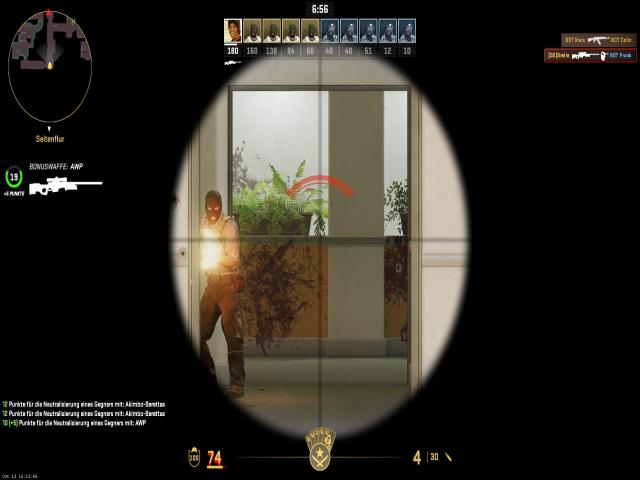T: (198, 184, 244, 378)
T-Head: (202, 187, 226, 226)
